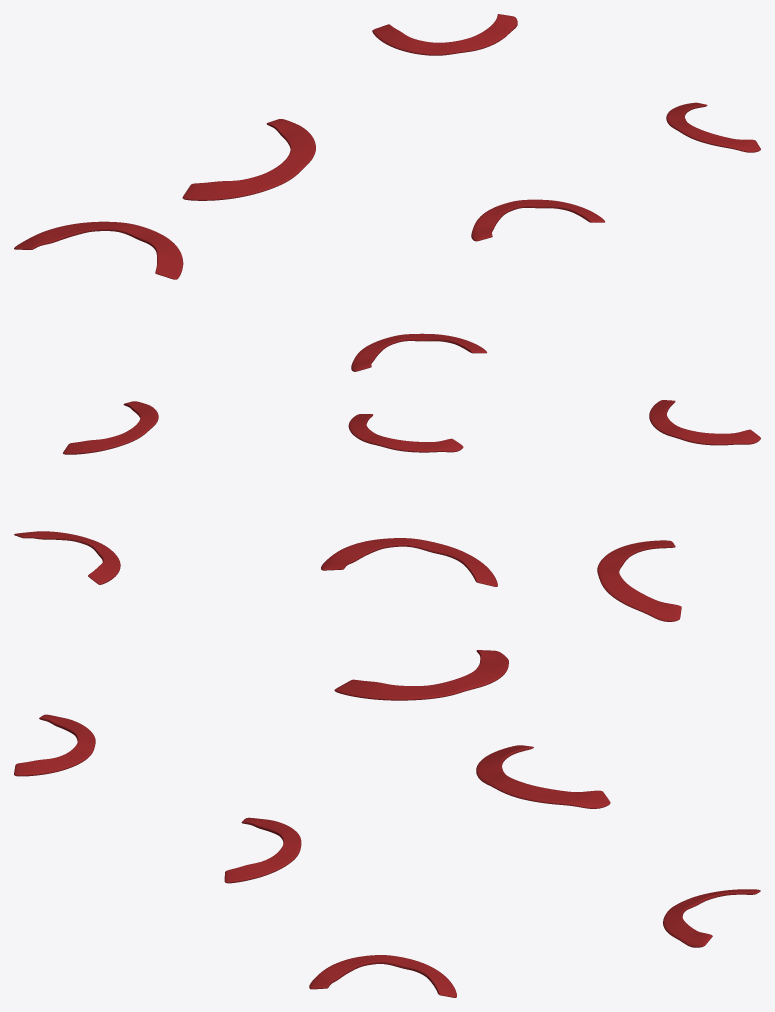
File: rodePaprika.fbx
3 views of the same model, one above another, from view 1: azimuth 30°, elevation 25°; view 2: azimuth 150°, elevation 25°; view 3: azimuth 270°, elevation 25° (orthographic). The views are drawn at different scales.
Parts seen in each view (by area): view 1: Circle.009; view 2: Circle.009; view 3: Circle.009.
Part boxes in pixels (bbox=[...]): Circle.009: bbox=[14, 14, 760, 371]; Circle.009: bbox=[14, 400, 760, 621]; Circle.009: bbox=[14, 650, 760, 997].
Bounding box in the file's own units: 136 × 4.11 × 125.
